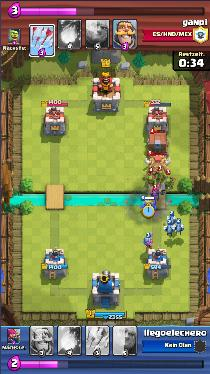ally_goblin_cage: (146, 131, 170, 155)
ally_mini_pekka: (140, 200, 156, 213)
ally_minion: (163, 223, 175, 236), (174, 222, 184, 234), (167, 215, 177, 225)
ally_musketeer: (141, 233, 153, 249)
enemy_goblin_hut: (142, 156, 171, 180)
enemy_mini_pekka: (149, 188, 165, 199)
enemy_spear_goblin: (164, 178, 175, 188), (146, 174, 155, 185), (158, 170, 164, 182)
